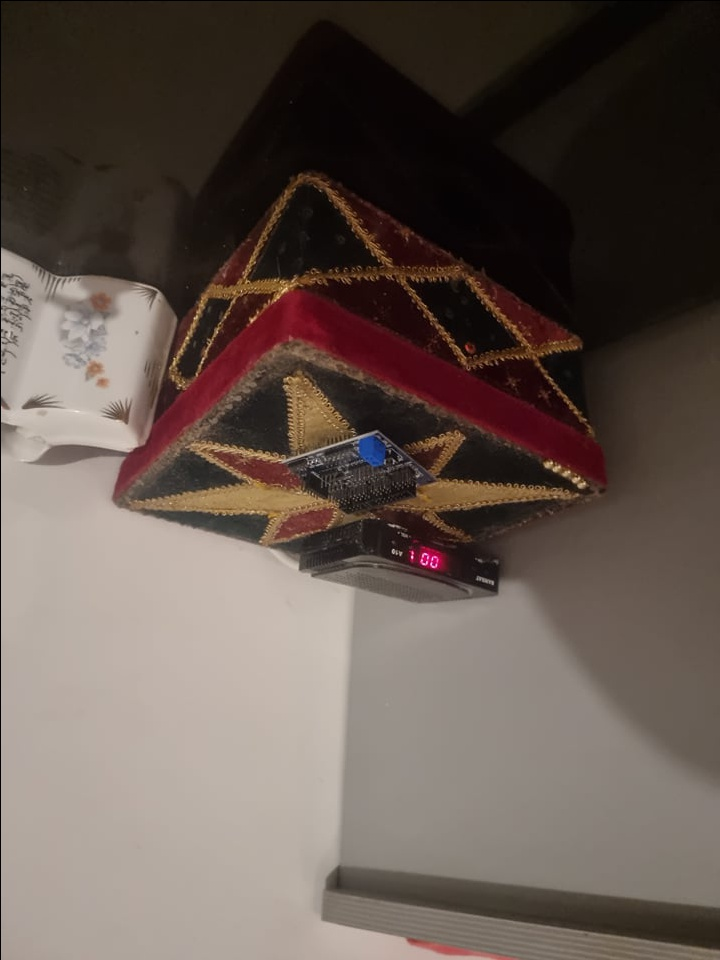5V EXPANSION: (281, 427, 437, 517)
